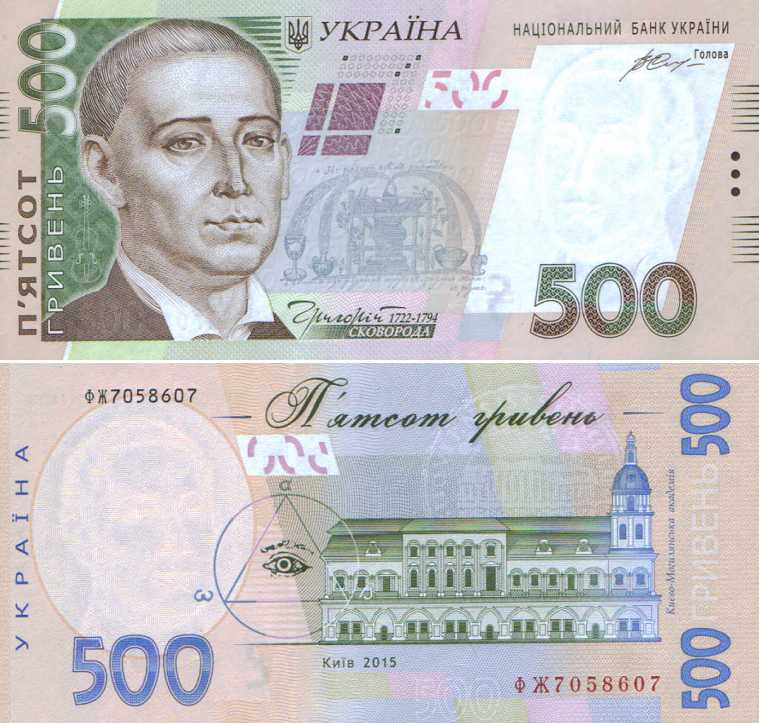bn_500: (0, 1, 759, 360), (4, 367, 758, 722)
